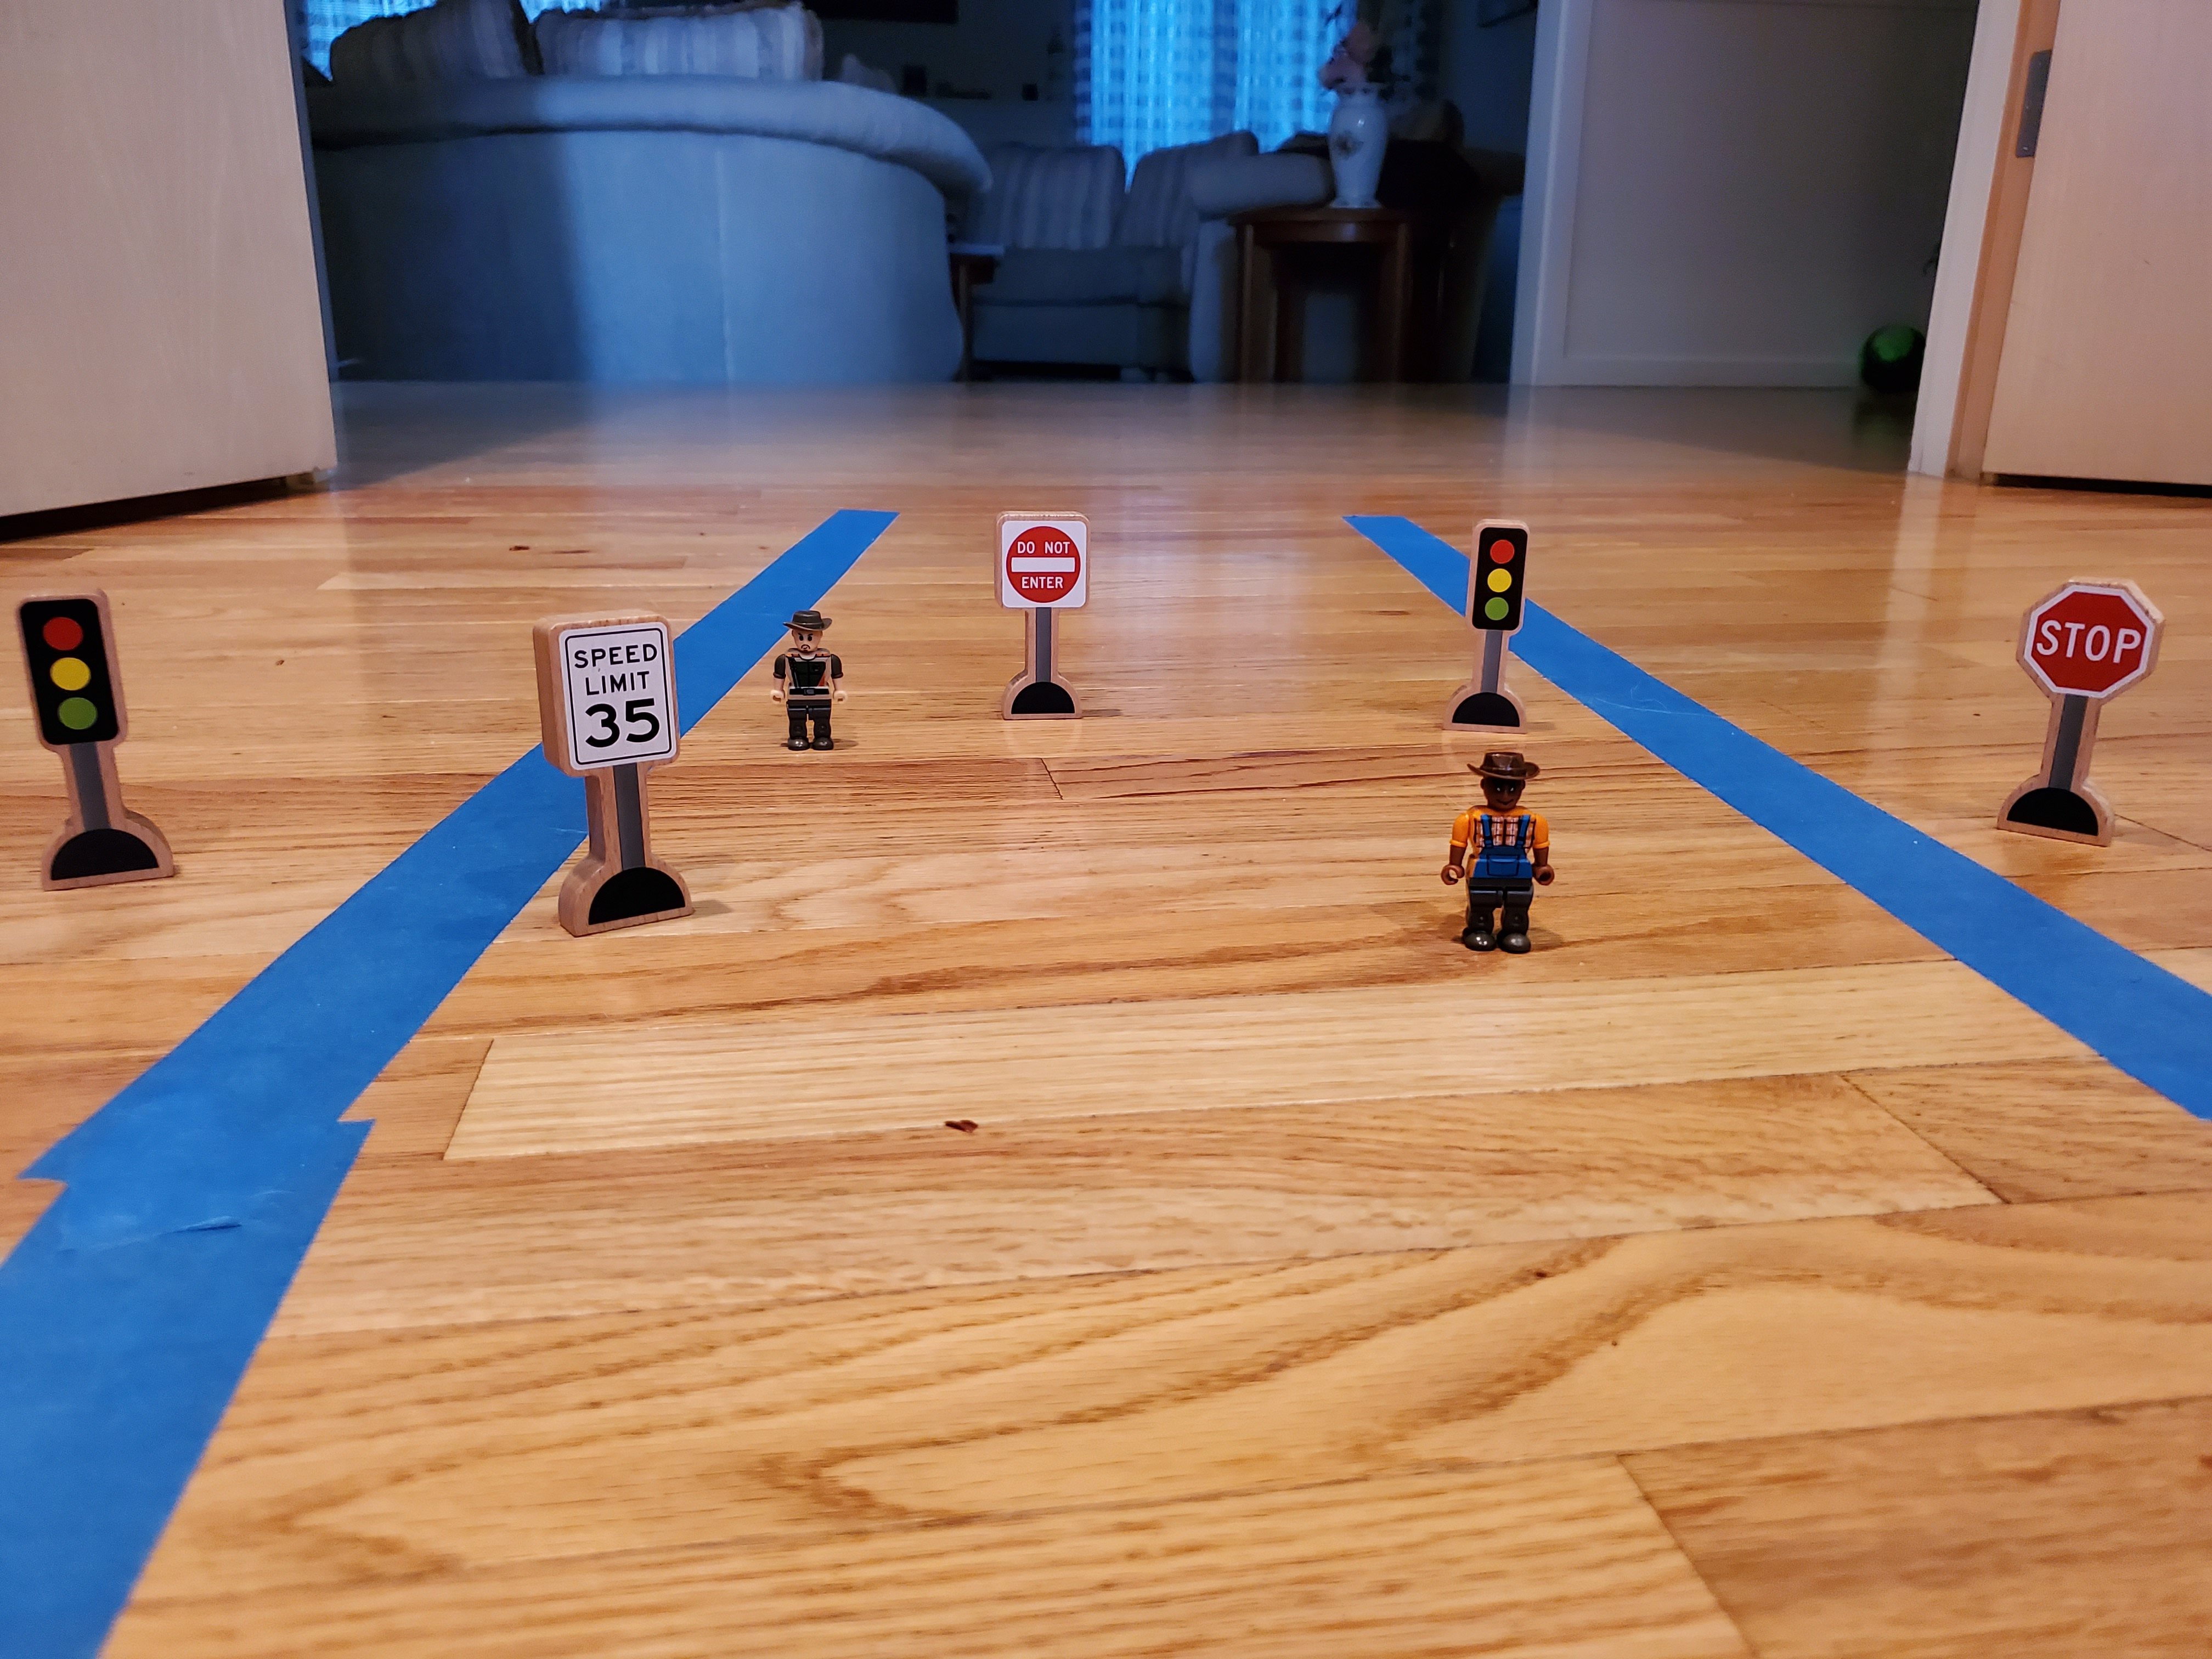Do Not Enter: (988, 506, 1097, 622)
Red Traffic Light: (12, 595, 139, 753), (1463, 512, 1545, 646)
Speed Limit 35: (527, 613, 689, 787)
Stop Sign: (2005, 566, 2177, 726)
person: (1432, 746, 1566, 965), (763, 603, 861, 753)
